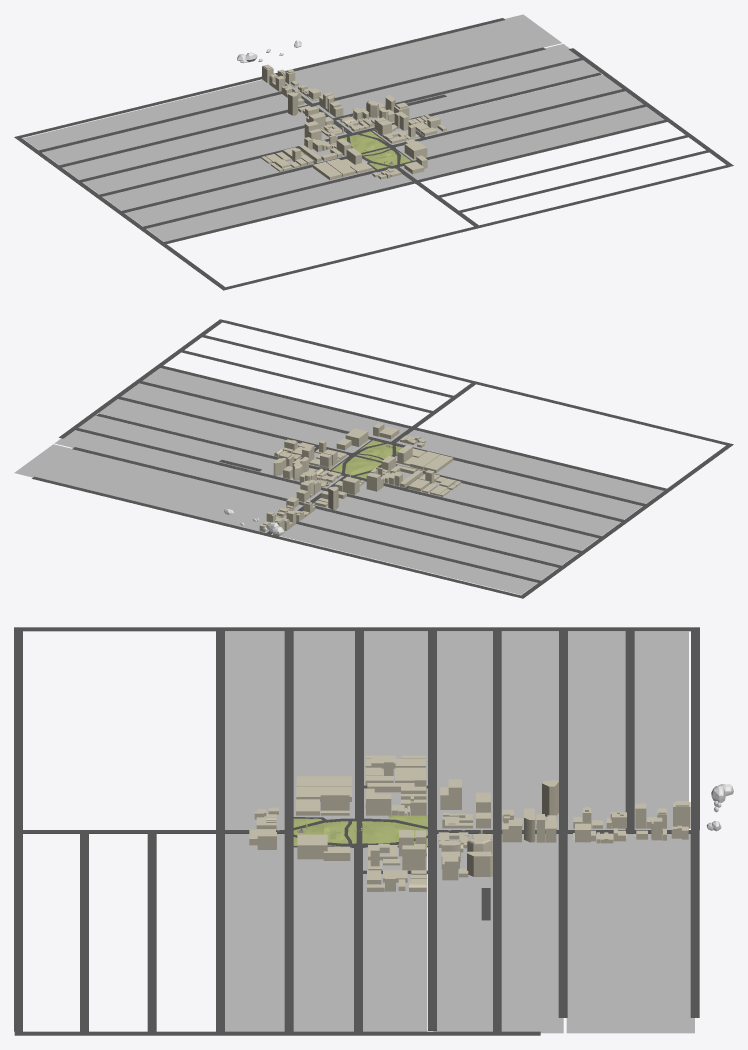
File: cityTest_01_04.fbx
3 views of the same model, one above another, from view 1: azimuth 30°, elevation 25°; view 2: azimuth 150°, elevation 25°; view 3: azimuth 270°, elevation 25° (orthographic). The views are drawn at different scales.
Parts seen in each view (by area): view 1: pavement6, pavement15, pavement9, pavement8, pavement14, pavement13, pavement16, pavement2, pavement5, pavement12, pavement10, pavement3 (+24 smaller); view 2: pavement6, pavement15, pavement9, pavement14, pavement8, pavement5, pavement13, pavement16, pavement2, pavement12, pavement10, pavement3 (+24 smaller); view 3: pavement6, pavement15, pavement9, pavement8, pavement5, pavement14, pavement2, pavement13, pavement16, pavement3, pavement12, pavement10 (+29 smaller).
Boxes of the visible parts, <box> form: pavement6: <box>293,28,561,103</box>; pavement15: <box>285,14,542,89</box>; pavement9: <box>146,168,411,241</box>; pavement8: <box>400,106,664,179</box>; pavement14: <box>42,94,307,165</box>; pavement13: <box>62,111,307,179</box>; pavement16: <box>23,80,280,150</box>; pavement2: <box>395,91,643,160</box>; pavement5: <box>316,44,579,118</box>; pavement12: <box>82,124,346,194</box>; pavement10: <box>125,158,374,226</box>; pavement3: <box>373,75,621,144</box>; pavement6: <box>34,444,303,518</box>; pavement15: <box>14,458,269,532</box>; pavement9: <box>396,430,663,503</box>; pavement14: <box>299,508,558,580</box>; pavement8: <box>142,368,408,441</box>; pavement5: <box>54,430,323,502</box>; pavement13: <box>312,496,578,565</box>; pavement16: <box>272,524,537,594</box>; pavement2: <box>121,383,370,452</box>; pavement12: <box>347,481,598,550</box>; pavement10: <box>395,455,642,519</box>; pavement3: <box>98,399,348,469</box>; pavement6: <box>566,834,631,1033</box>; pavement15: <box>629,834,694,1033</box>; pavement9: <box>225,631,284,829</box>; pavement8: <box>225,834,284,1031</box>; pavement5: <box>501,834,563,1033</box>; pavement14: <box>568,631,625,829</box>; pavement2: <box>293,847,353,1031</box>; pavement13: <box>501,631,558,829</box>; pavement16: <box>634,631,688,829</box>; pavement3: <box>363,847,427,1031</box>; pavement12: <box>437,631,492,829</box>; pavement10: <box>293,631,354,819</box>.
Size of the model in its own units: 1506 by 64.47 by 1123.
